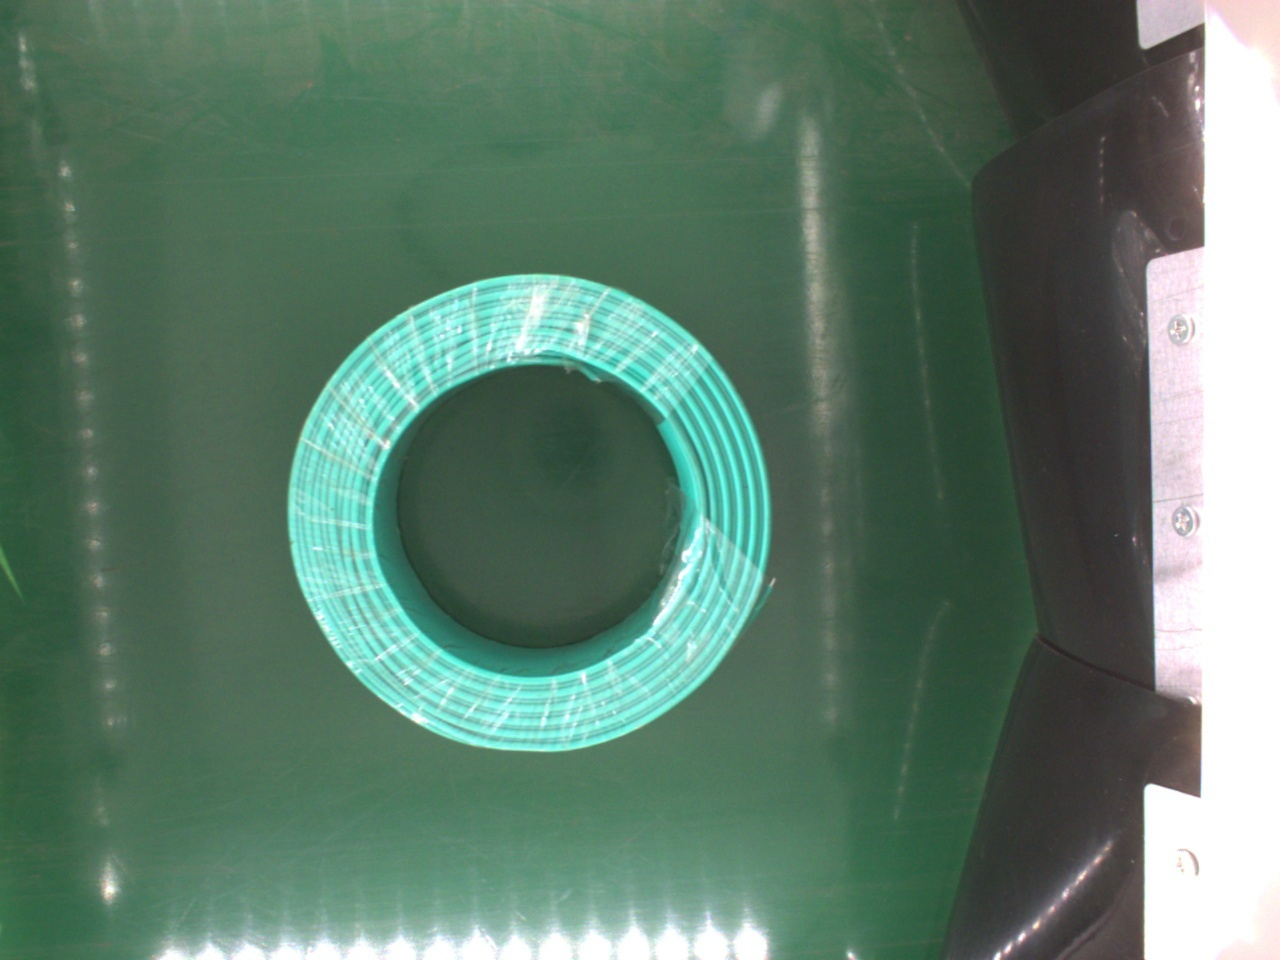green: (289, 275, 772, 757)
